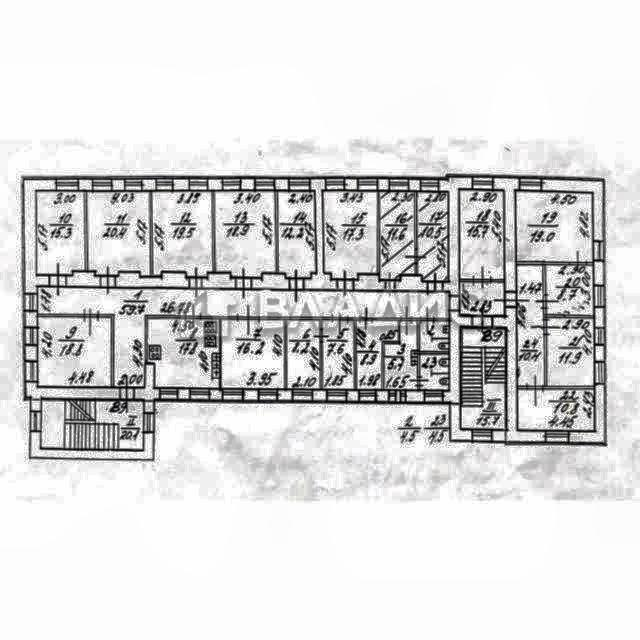room: (36, 287, 449, 391), (87, 190, 150, 277), (515, 191, 592, 262), (41, 398, 143, 450), (215, 191, 276, 277), (152, 191, 212, 277), (147, 319, 220, 389), (40, 318, 111, 387), (323, 191, 378, 280), (461, 327, 506, 430), (223, 320, 284, 389), (36, 191, 84, 275), (459, 193, 504, 279), (277, 191, 316, 279), (516, 264, 544, 386), (517, 389, 594, 431), (379, 192, 415, 280), (547, 318, 593, 386), (356, 320, 398, 389), (417, 192, 448, 281), (546, 265, 593, 315), (384, 321, 417, 389), (322, 320, 354, 389), (288, 320, 319, 389), (460, 282, 504, 316), (420, 355, 448, 390), (420, 321, 448, 352)
